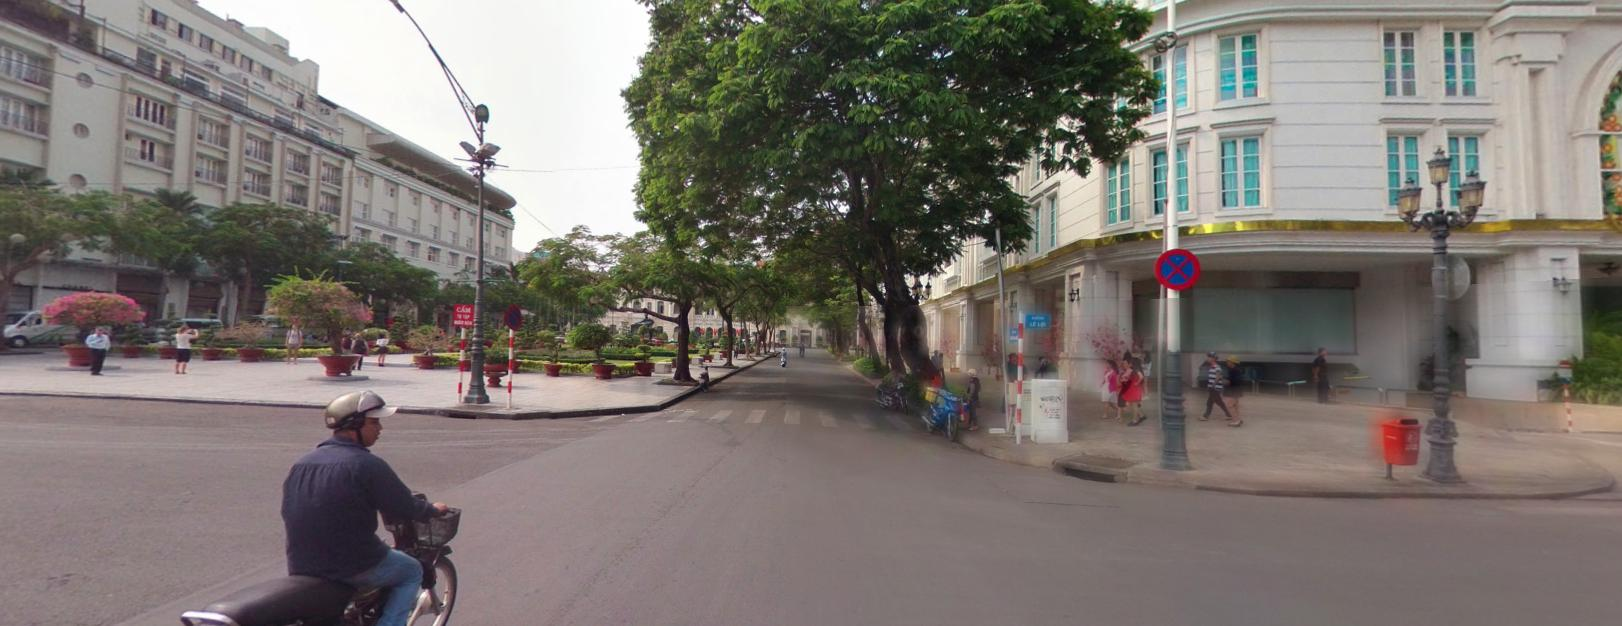Cam dung va do: (1154, 246, 1200, 289), (504, 302, 521, 326)
